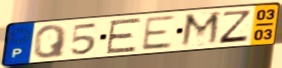5: (70, 21, 100, 56)
E: (104, 16, 144, 55), (139, 14, 176, 52)
M: (178, 10, 223, 50)
Q: (32, 23, 69, 60)
Z: (217, 10, 253, 45)
